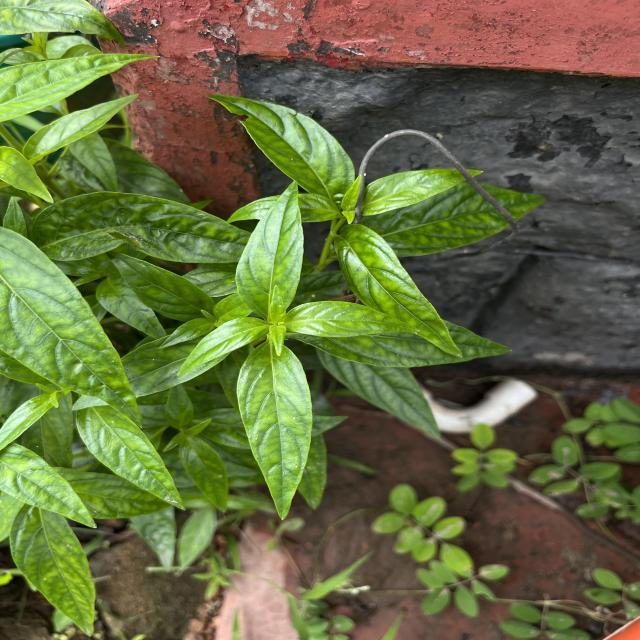Andrographis paniculata: (0, 226, 147, 430), (332, 224, 466, 358), (31, 190, 250, 264), (204, 94, 356, 198), (236, 340, 314, 521), (8, 502, 98, 638), (74, 406, 189, 512), (316, 346, 442, 441), (234, 179, 306, 319), (0, 442, 98, 530), (106, 248, 215, 322), (22, 92, 140, 160), (175, 316, 268, 378), (284, 300, 420, 338), (178, 436, 230, 514)
